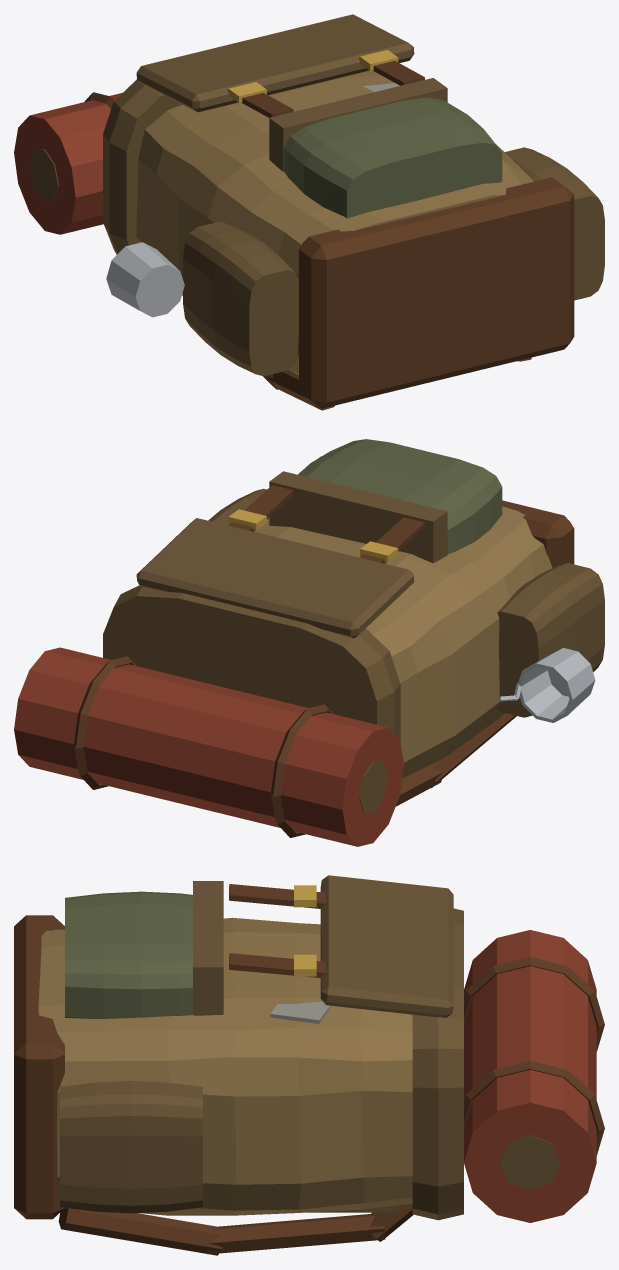
Rendered from backpack.glb.
3 renders of one model, top to bottom at view 1: azimuth 30°, elevation 25°; view 2: azimuth 150°, elevation 25°; view 3: azimuth 270°, elevation 25°, orthographic. The views are drawn at different scales.
Visible parts, largest first — view 1: backpack; view 2: backpack; view 3: backpack.
Part boxes in pixels (<box>): backpack: <box>14,14,604,410</box>; backpack: <box>14,439,604,846</box>; backpack: <box>14,875,604,1255</box>.
Size of the model in its own units: 0.5037 by 0.314 by 0.578.
